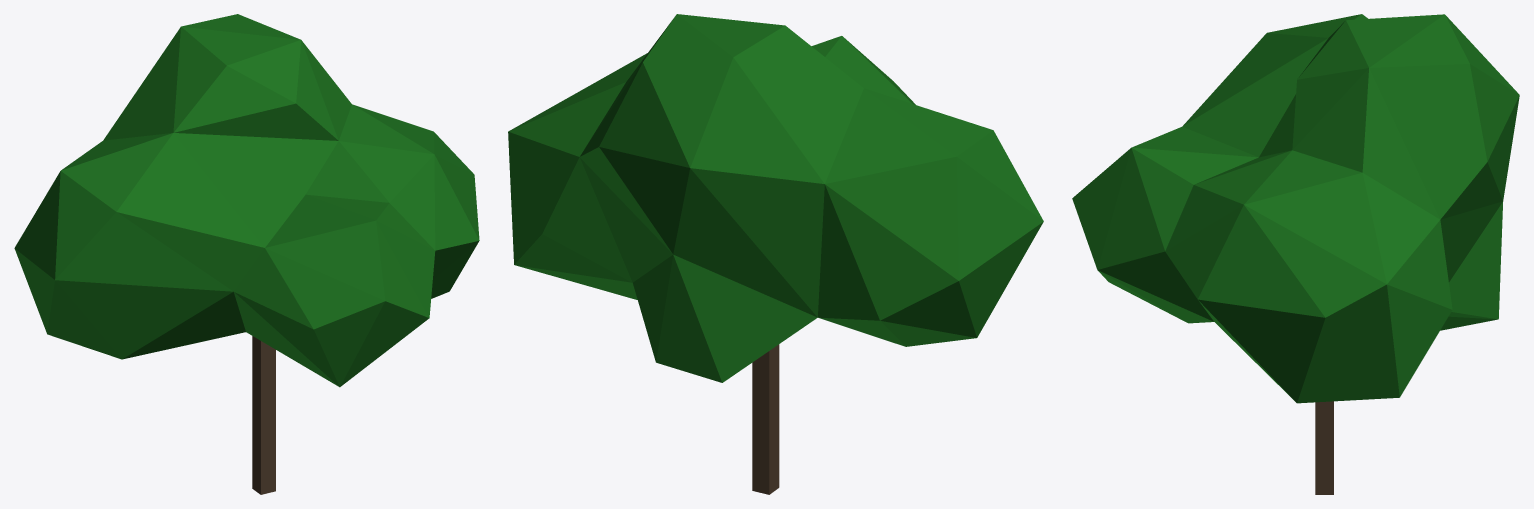
File: tree.fbx
The picture shows the model from 3 angles, left to right: view 1: azimuth 30°, elevation 25°; view 2: azimuth 150°, elevation 25°; view 3: azimuth 270°, elevation 25°; orthographic projection. The views are drawn at different scales.
Parts seen in each view (by area): view 1: Mball.008, Cube; view 2: Mball.008, Cube; view 3: Mball.008, Cube.
Part boxes in pixels (bbox=[...]): Mball.008: bbox=[14, 14, 479, 387]; Cube: bbox=[252, 336, 275, 494]; Mball.008: bbox=[508, 14, 1043, 382]; Cube: bbox=[752, 344, 779, 494]; Mball.008: bbox=[1072, 14, 1519, 403]; Cube: bbox=[1315, 401, 1333, 494].
Bounding box in the file's own units: 786 × 735 × 645.
